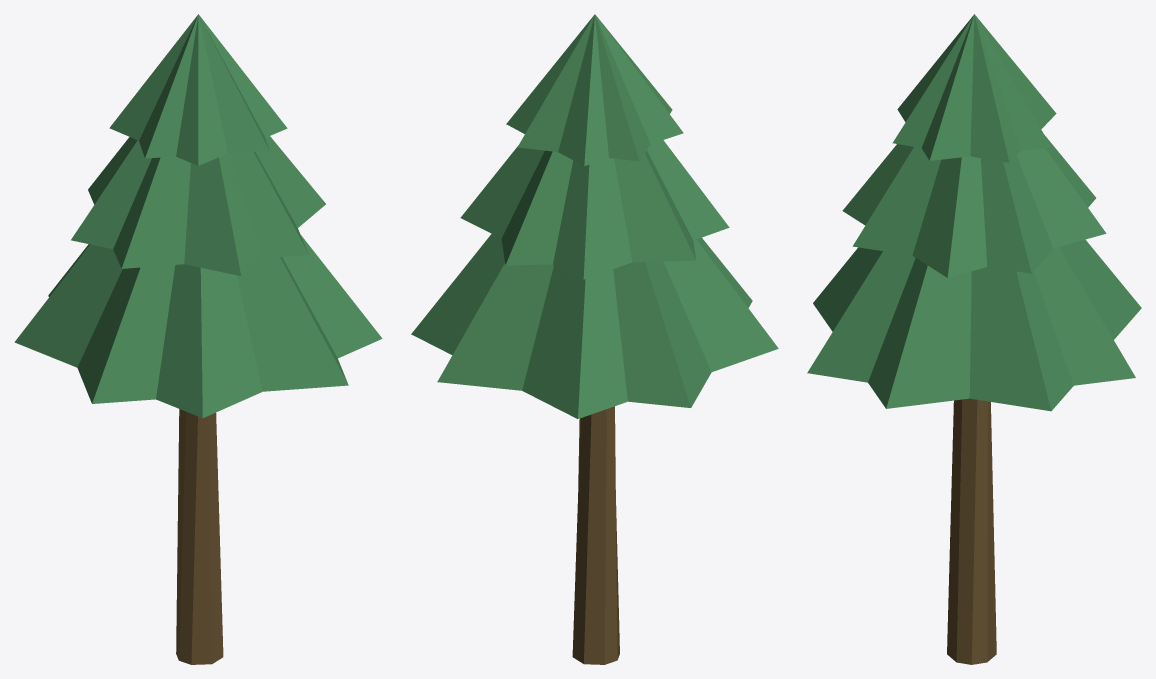
The model's file is Nadelbaum 3.fbx.
The picture shows the model from 3 angles, left to right: view 1: azimuth 30°, elevation 25°; view 2: azimuth 150°, elevation 25°; view 3: azimuth 270°, elevation 25°; orthographic projection.
Visible parts, largest first — view 1: Pyramide_4, Pyramide_5, Pyramide_3, Pyramide_2, stamm, Pyramide, Pyramide_1; view 2: Pyramide_5, Pyramide_4, Pyramide_2, Pyramide_3, stamm, Pyramide_1, Pyramide; view 3: Pyramide_5, Pyramide_4, Pyramide_3, stamm, Pyramide_2, Pyramide_1, Pyramide.
Boxes of the visible parts, x1,y1,x2,y2 form: Pyramide_4: [14, 235, 382, 418]; Pyramide_5: [48, 244, 348, 403]; Pyramide_3: [71, 136, 325, 275]; Pyramide_2: [88, 137, 308, 268]; stamm: [176, 409, 223, 664]; Pyramide: [109, 14, 287, 165]; Pyramide_1: [139, 14, 269, 158]; Pyramide_5: [411, 234, 778, 418]; Pyramide_4: [437, 237, 752, 407]; Pyramide_2: [460, 140, 729, 279]; Pyramide_3: [501, 150, 696, 265]; stamm: [572, 406, 619, 664]; Pyramide_1: [506, 14, 683, 165]; Pyramide: [517, 14, 672, 161]; Pyramide_5: [807, 239, 1141, 411]; Pyramide_4: [813, 247, 1135, 408]; Pyramide_3: [842, 144, 1106, 277]; stamm: [947, 398, 996, 664]; Pyramide_2: [852, 135, 1095, 273]; Pyramide_1: [892, 14, 1056, 162]; Pyramide: [897, 14, 1051, 160].
Size of the model in its own units: 581 by 1226 by 581.
